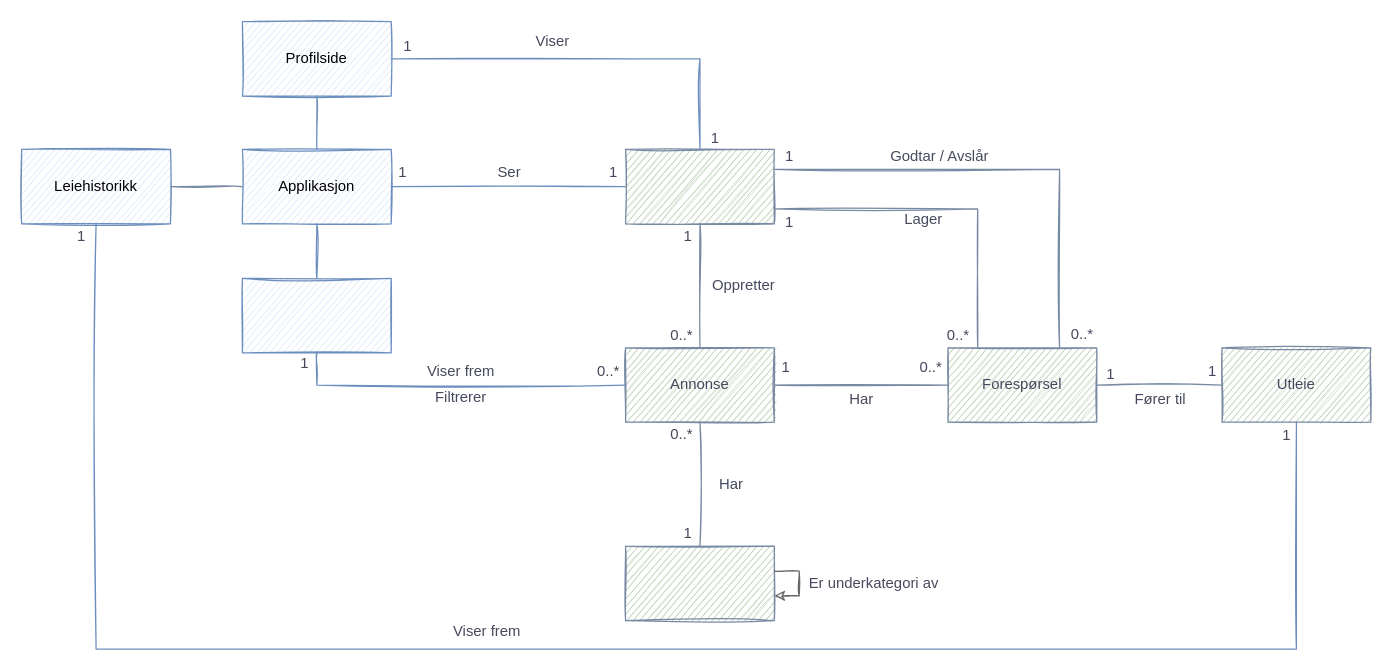
This 1393x672 diagram has some shape labels left out. Each missing label, with the centre of its shape:
"Bruker" belongs at (x=699, y=186).
"Hjemside" belongs at (x=316, y=315).
"Kategori" belongs at (x=699, y=583).
